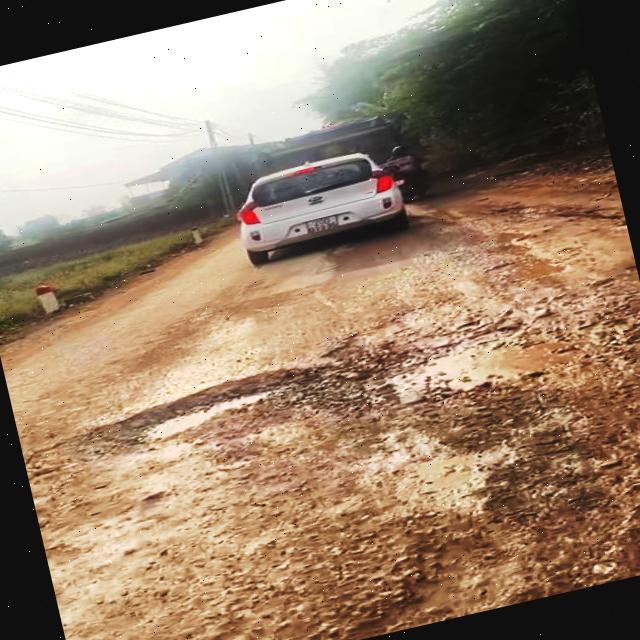pothole: (315, 419, 640, 640), (317, 283, 640, 440), (16, 358, 323, 488)
